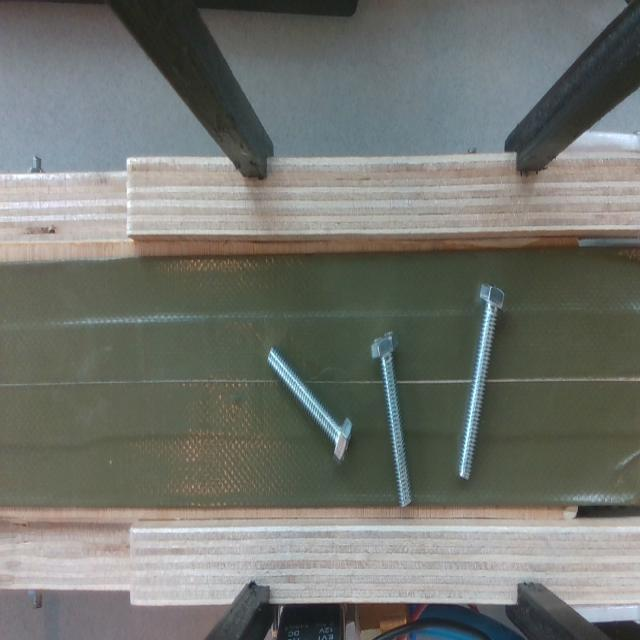Bolt: (449, 282, 515, 497), (258, 342, 358, 468), (367, 313, 418, 517)
